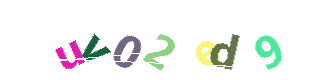0: (115, 0, 195, 80)
2: (128, 0, 208, 80)
9: (229, 0, 309, 80)
D: (165, 0, 245, 80)
E: (135, 0, 215, 80)
U: (30, 0, 110, 80)
V: (54, 0, 134, 80)
